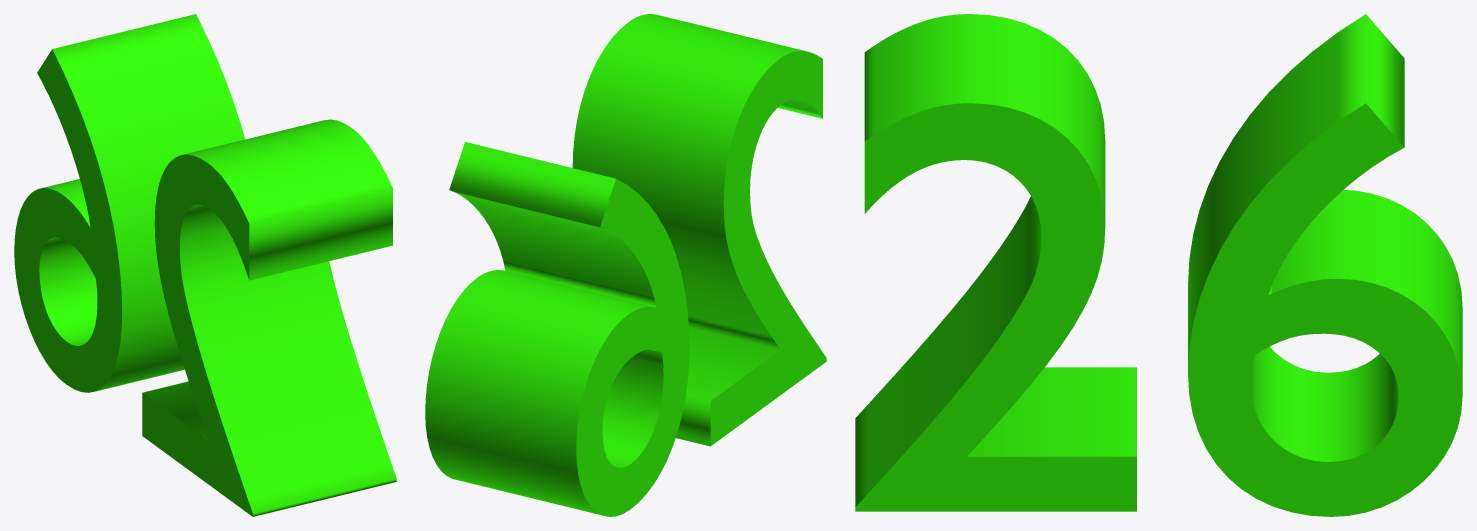
File: number26.obj
The picture shows the model from 3 angles, left to right: view 1: azimuth 30°, elevation 25°; view 2: azimuth 150°, elevation 25°; view 3: azimuth 270°, elevation 25°; orthographic projection. The views are drawn at different scales.
Visible parts, largest first — view 1: Text_Text.001; view 2: Text_Text.001; view 3: Text_Text.001.
Boxes of the visible parts, x1,y1,x2,y2 form: Text_Text.001: (14, 14, 396, 516); Text_Text.001: (425, 14, 826, 516); Text_Text.001: (855, 14, 1462, 516).
Bounding box in the file's own units: 2.23 × 4.83 × 6.42.
